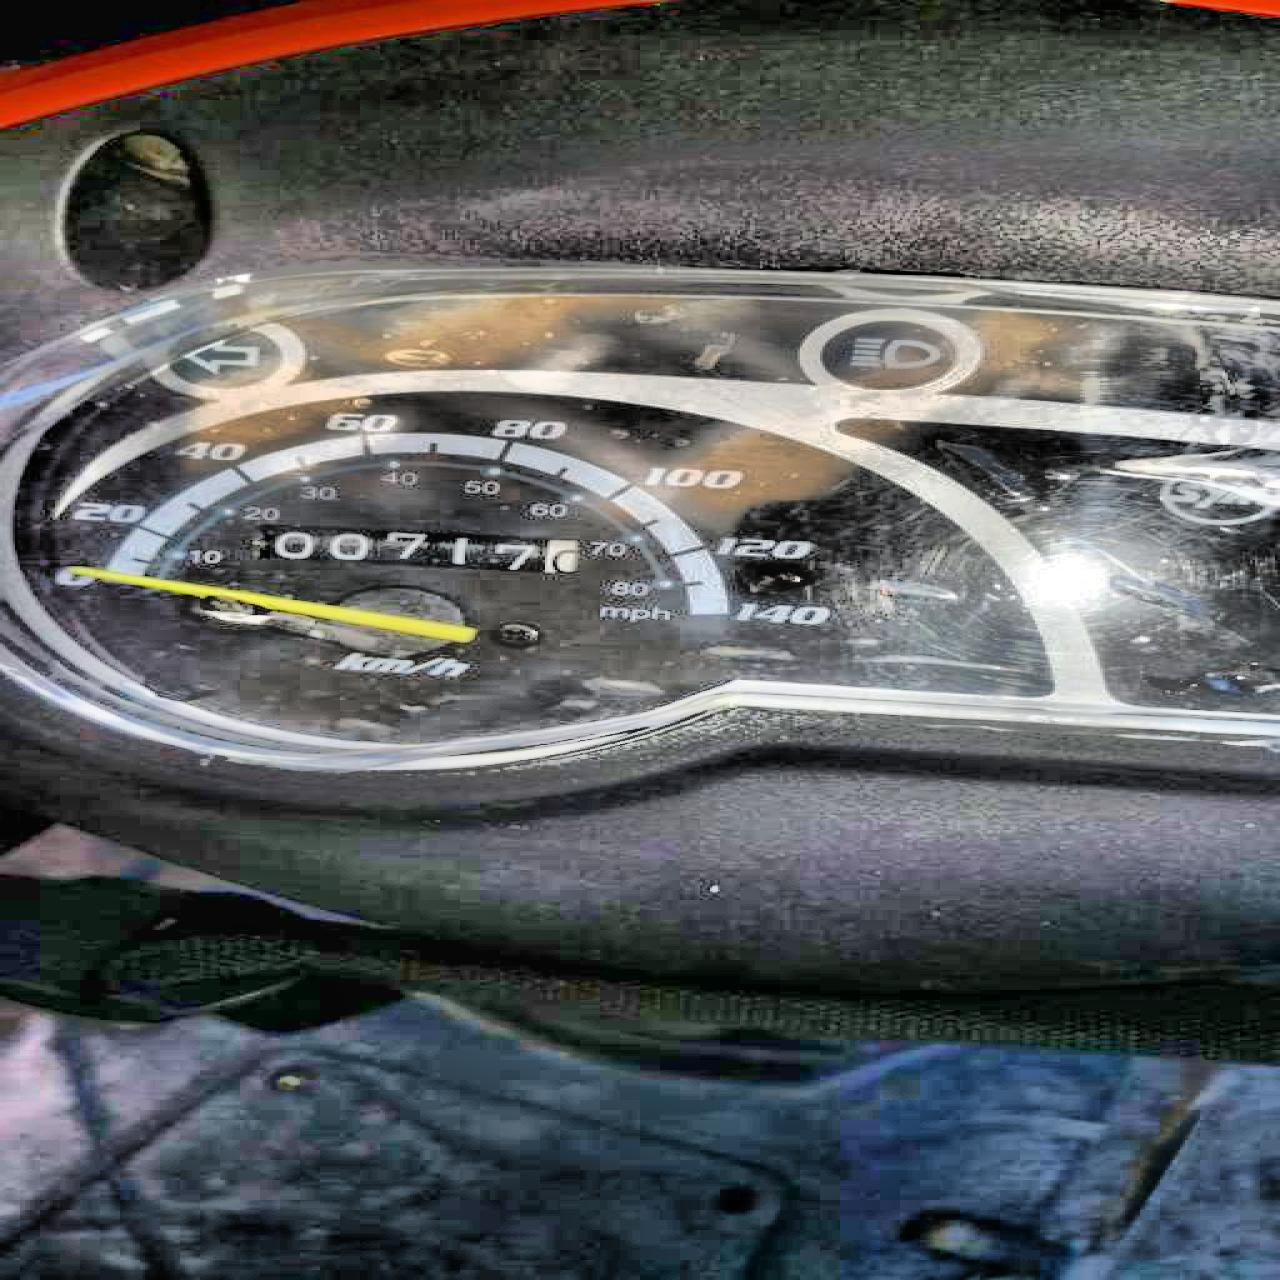0: (327, 531, 368, 560), (272, 531, 309, 559), (550, 549, 583, 572)
1: (448, 536, 470, 564)
7: (384, 531, 425, 558), (492, 544, 532, 568)
odometer: (252, 522, 580, 573)
